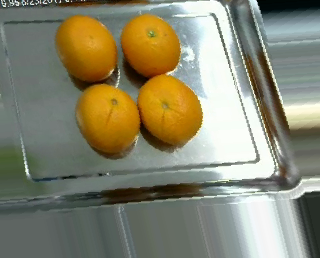Orange: (137, 74, 203, 146), (74, 82, 140, 152), (56, 14, 118, 81), (121, 14, 181, 76)
